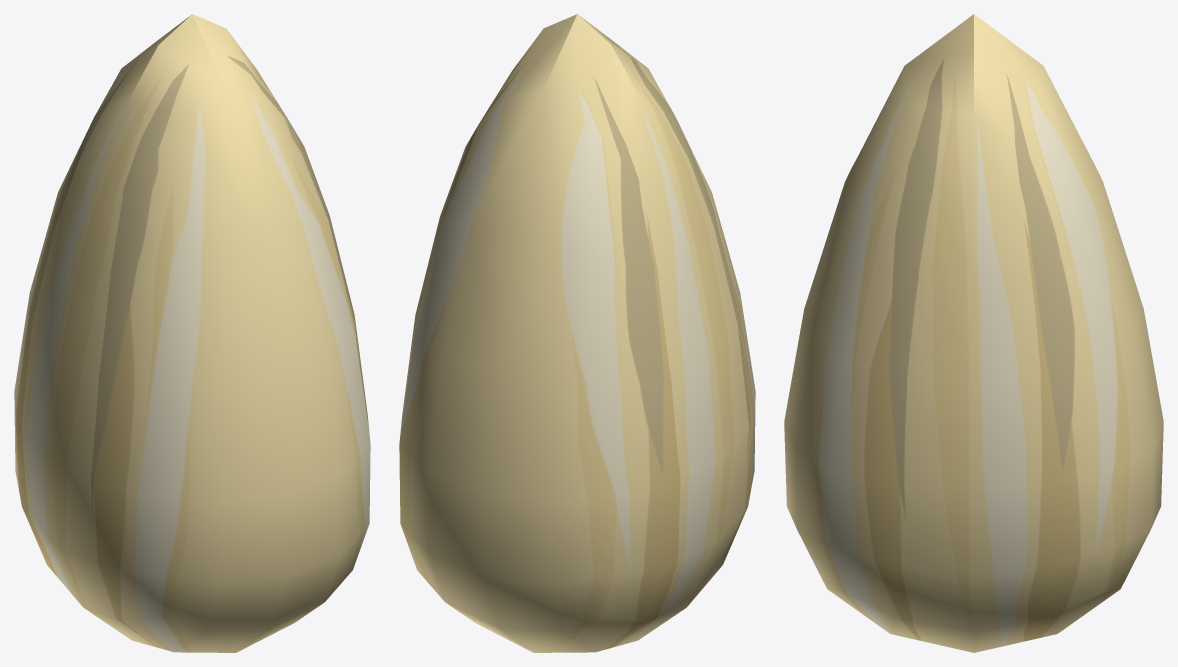
File: Seed.fbx
3 renders of one model, left to right at view 1: azimuth 30°, elevation 25°; view 2: azimuth 150°, elevation 25°; view 3: azimuth 270°, elevation 25°, orthographic.
Visible parts, largest first — view 1: Cube; view 2: Cube; view 3: Cube.
Part boxes in pixels (box(x1,y1,x2,y2)): Cube: box(14, 14, 370, 652); Cube: box(399, 14, 755, 652); Cube: box(784, 14, 1163, 652).
Size of the model in its own units: 209 by 433 by 238.
Materials: 1 (1 with a texture image).
